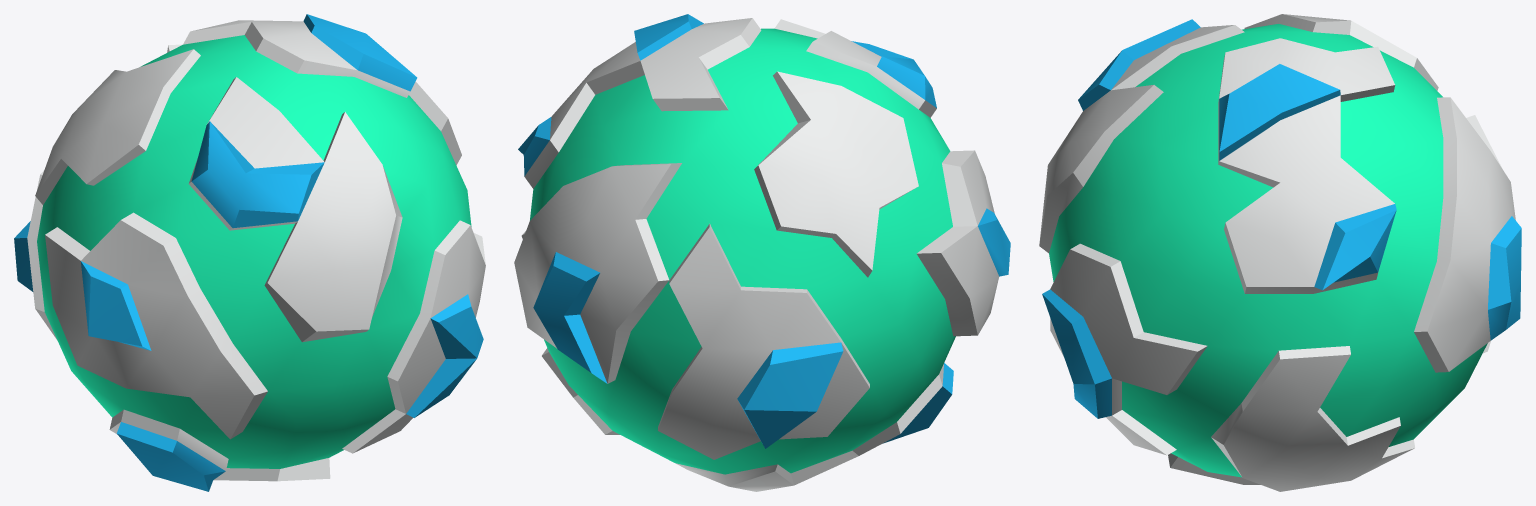
Rendered from ice_planet_1.fbx.
3 renders of one model, left to right at view 1: azimuth 30°, elevation 25°; view 2: azimuth 150°, elevation 25°; view 3: azimuth 270°, elevation 25°, orthographic. The views are drawn at different scales.
Parts seen in each view (by area): view 1: Icosphere.001; view 2: Icosphere.001; view 3: Icosphere.001.
Boxes of the visible parts, bbox=[...] form: Icosphere.001: bbox=[14, 14, 485, 491]; Icosphere.001: bbox=[514, 14, 1010, 491]; Icosphere.001: bbox=[1039, 14, 1521, 491].
Bounding box in the file's own units: 218 × 211 × 210.
